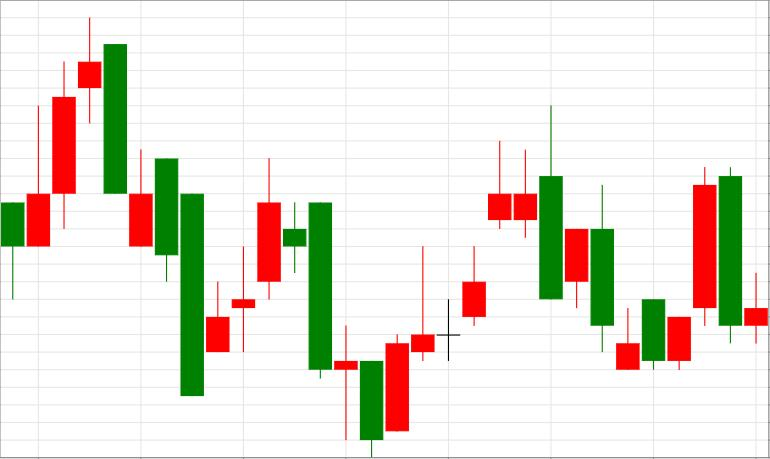bearish_engulfing_fall: (386, 106, 562, 433), (617, 167, 741, 371)
shooting_star_fall: (386, 140, 537, 431), (386, 141, 511, 432)
